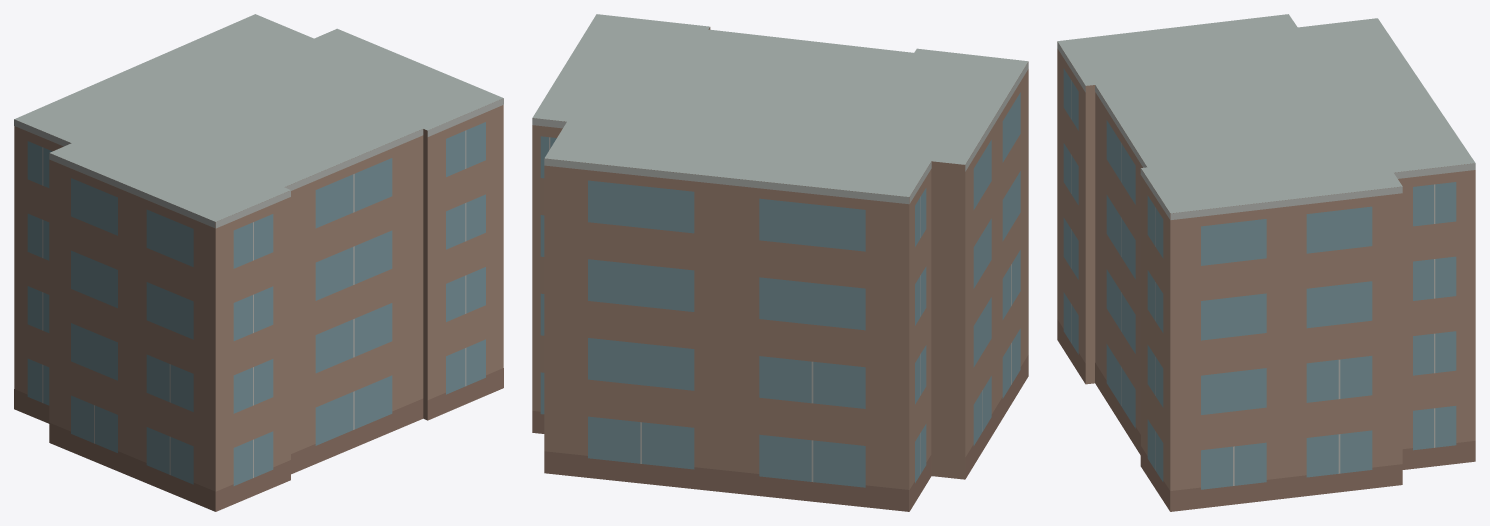
The model's file is survey-upis-32705757.glb.
The picture shows the model from 3 angles, left to right: view 1: azimuth 30°, elevation 25°; view 2: azimuth 150°, elevation 25°; view 3: azimuth 270°, elevation 25°; orthographic projection. The views are drawn at different scales.
Visible parts, largest first — view 1: survey-upis-32705757.tmp; view 2: survey-upis-32705757.tmp; view 3: survey-upis-32705757.tmp.
Boxes of the visible parts, <box> form: survey-upis-32705757.tmp: <box>14,14,503,511</box>; survey-upis-32705757.tmp: <box>532,14,1028,511</box>; survey-upis-32705757.tmp: <box>1057,14,1475,511</box>.
Size of the model in its own units: 15.34 by 10.7 by 13.6.
